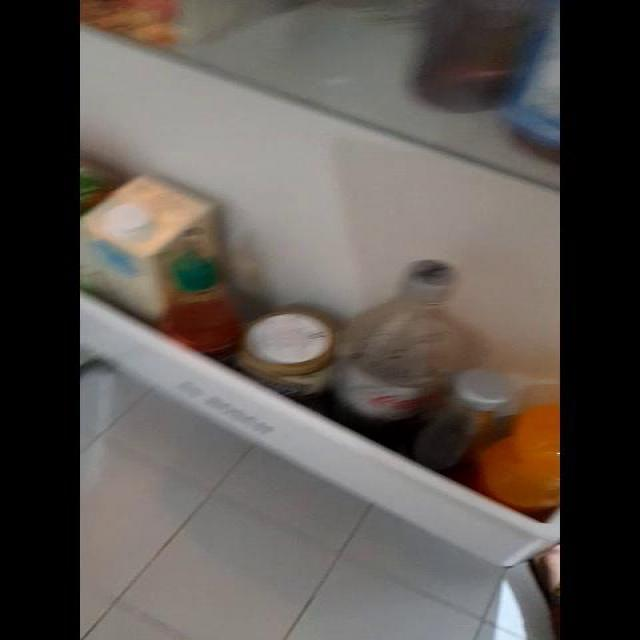milk: (84, 183, 191, 312)
sauce: (171, 233, 248, 354)
